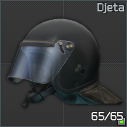PSh-97 "Djeta" riot helmet: (0, 0, 127, 127)
